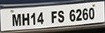character: (11, 13, 22, 27), (21, 12, 30, 26), (36, 11, 44, 24), (50, 10, 57, 24), (57, 9, 64, 23), (68, 8, 75, 21), (75, 8, 82, 21), (30, 11, 36, 26), (82, 7, 88, 21), (88, 7, 95, 19)
